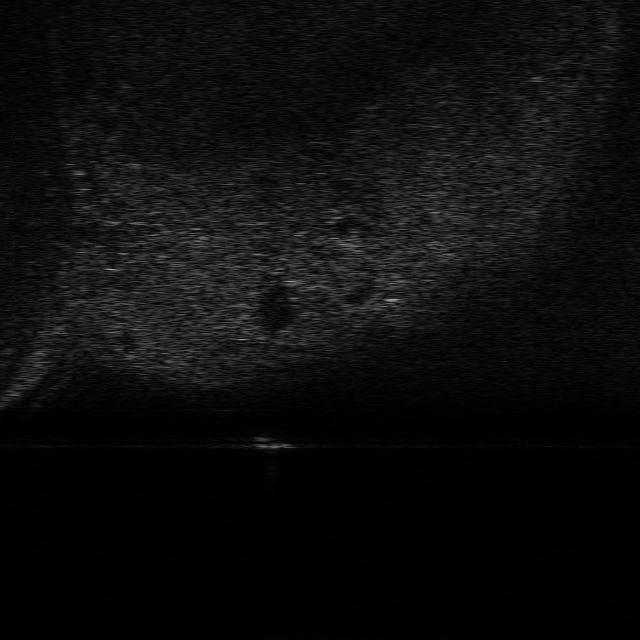cube: (246, 434, 295, 453)
